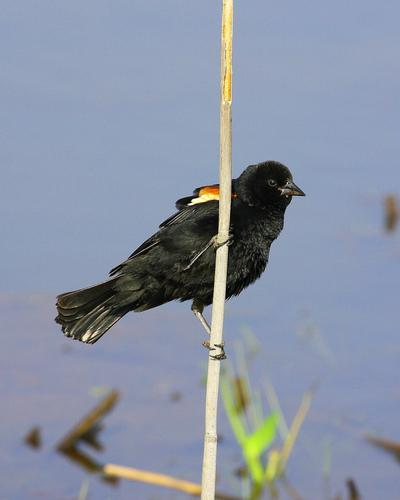010.Red_winged_Blackbird: (55, 162, 310, 358)
